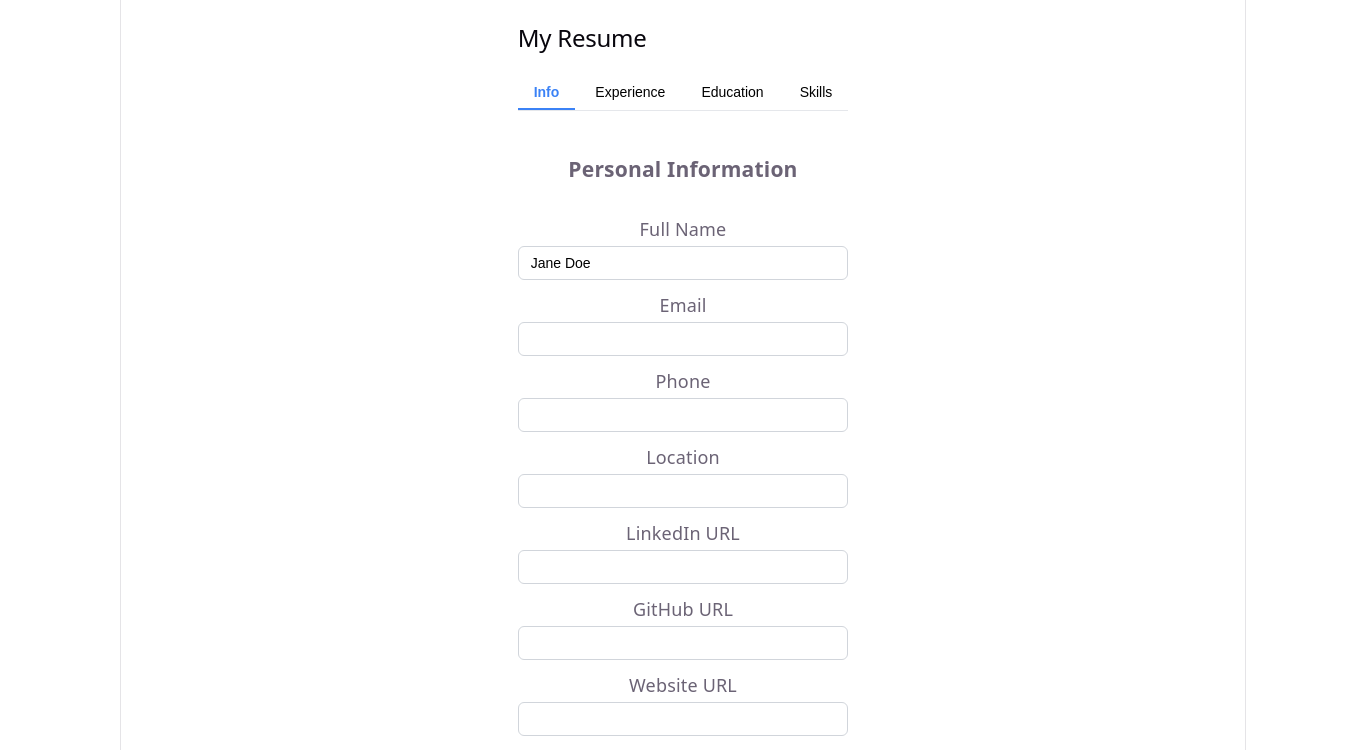
Test: ResumeBuilder › switches tabs
The image size is (1366, 750).
Step 1. Click the button "Experience" → click(630, 93), box [579, 76, 681, 110]
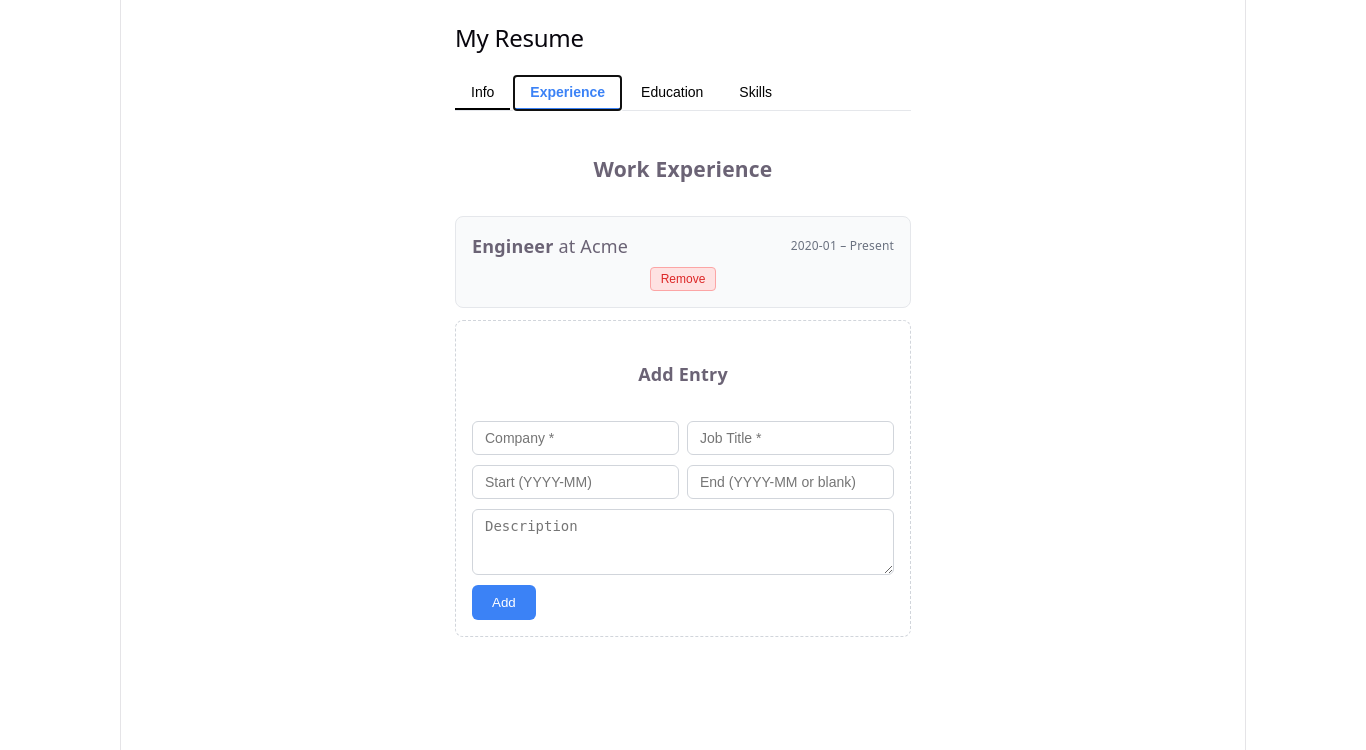
Now the heading "Work Experience" is shown, box [594, 154, 772, 183]
Step 2. Click the button "Education" → click(672, 93), box [625, 76, 719, 110]
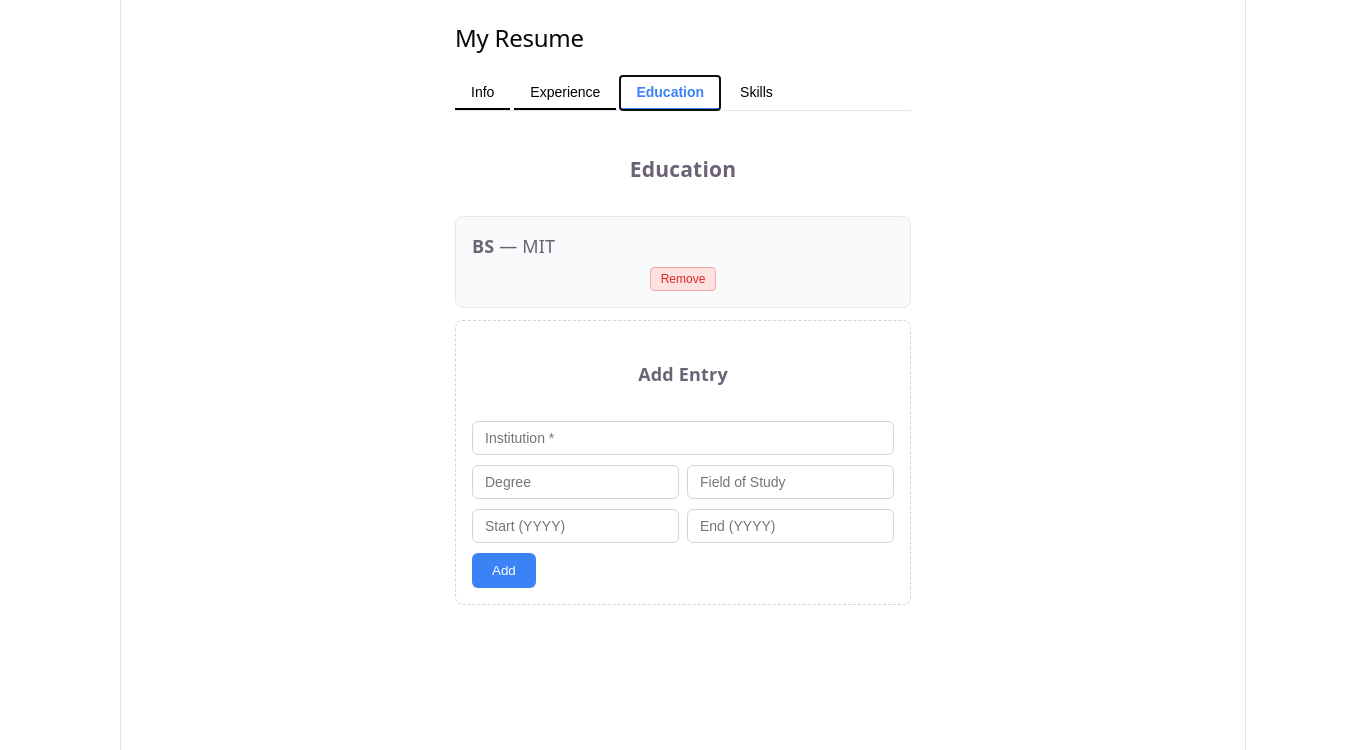
Now the heading "Education" is shown, box [630, 154, 736, 183]
Step 3. Click the button "Skills" → click(756, 93), box [724, 76, 789, 110]
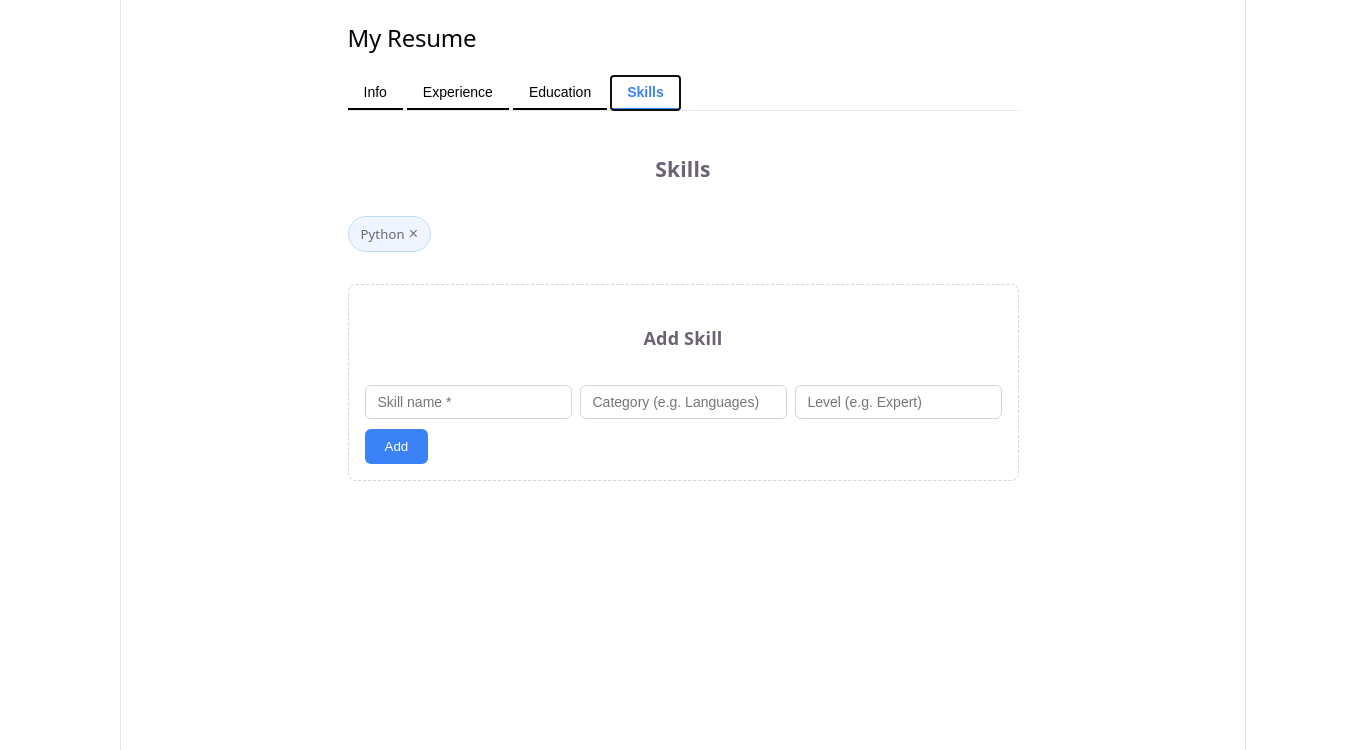
Now the heading "Skills" is shown, box [655, 154, 711, 183]
